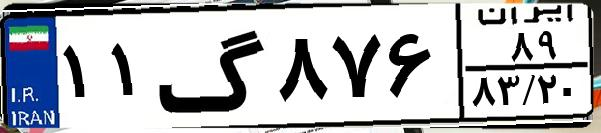0: (560, 70, 590, 125)
1: (57, 26, 110, 100), (110, 28, 156, 98)
2: (535, 70, 560, 125)
3: (495, 70, 520, 125)
6: (385, 28, 445, 110)
7: (330, 28, 385, 110)
8: (270, 28, 330, 110), (508, 27, 537, 80), (470, 70, 495, 125)
9: (537, 27, 568, 80)
گ: (156, 12, 270, 120)
